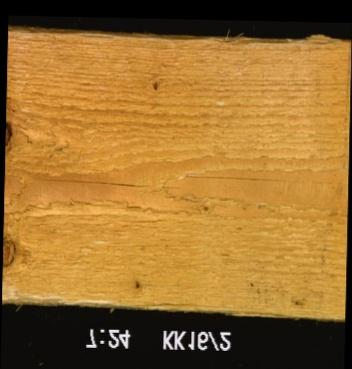small_knot: (149, 78, 158, 94), (131, 279, 144, 289)
split: (3, 169, 183, 190), (175, 171, 348, 188), (144, 293, 284, 311)
wave: (221, 26, 335, 53), (1, 289, 120, 306)
